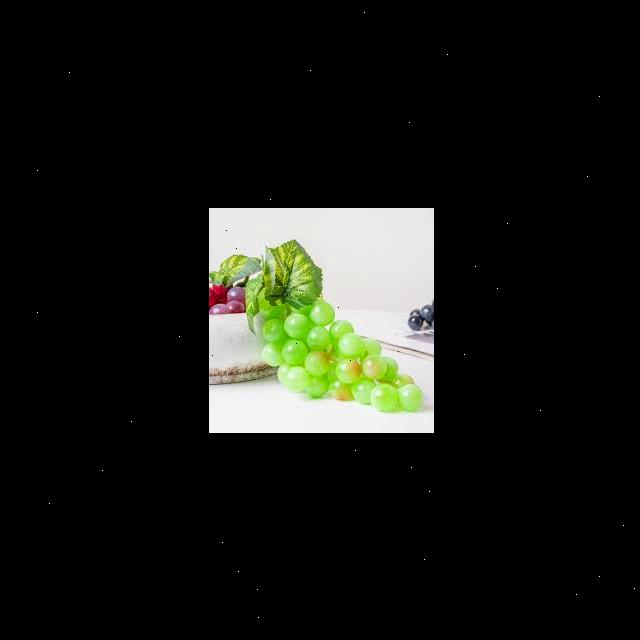grape: (258, 298, 422, 412), (208, 282, 244, 314)
